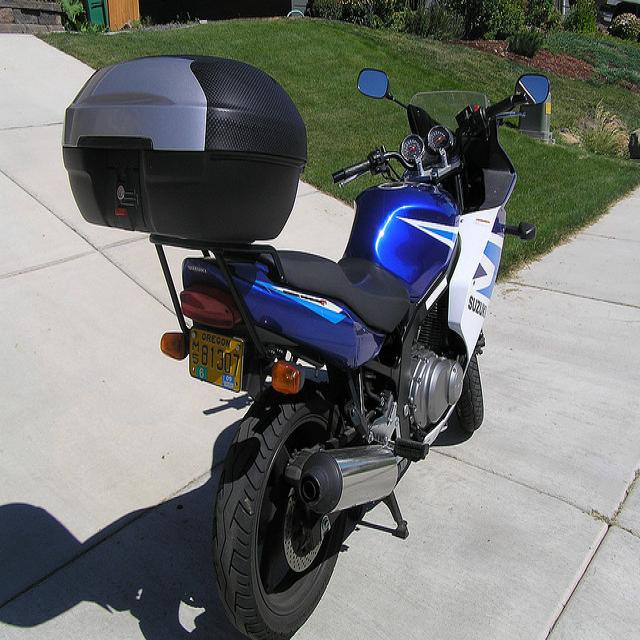motor: (155, 66, 553, 627)
